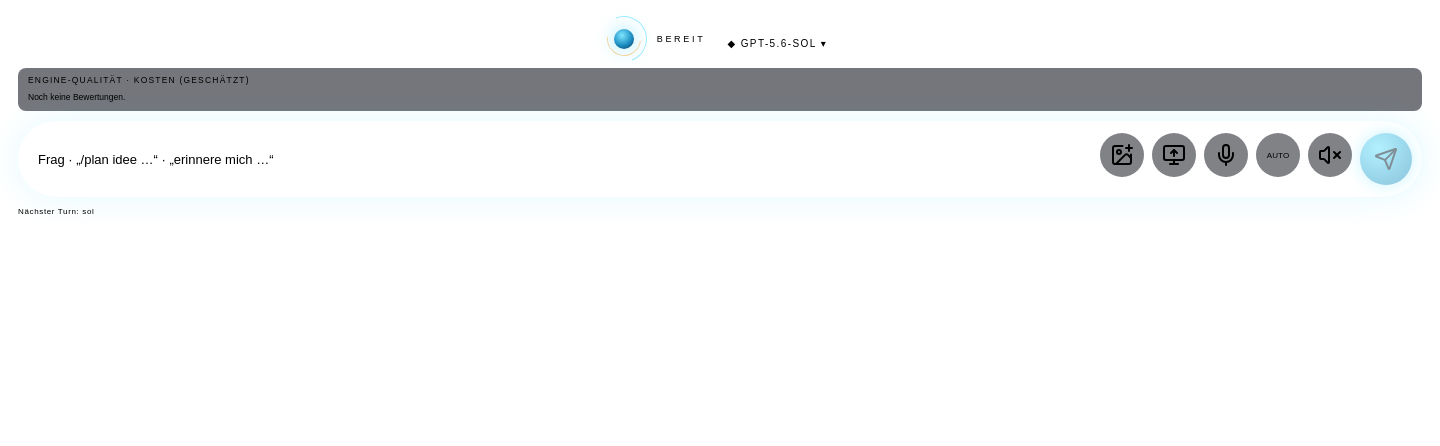
Test: JarvisChat (LIVE-Kontrakt /api/pa/*, Payload-Shapes aus test_pa_chat.py) › Error-Turn → Error-Bubble mit Fehlertext, markiert über status==='error' nach Reload
Step 1. Type "was ist offen?" into the field named "Nachricht an Jarvis" → point(564, 159), box [38,137,1090,181]
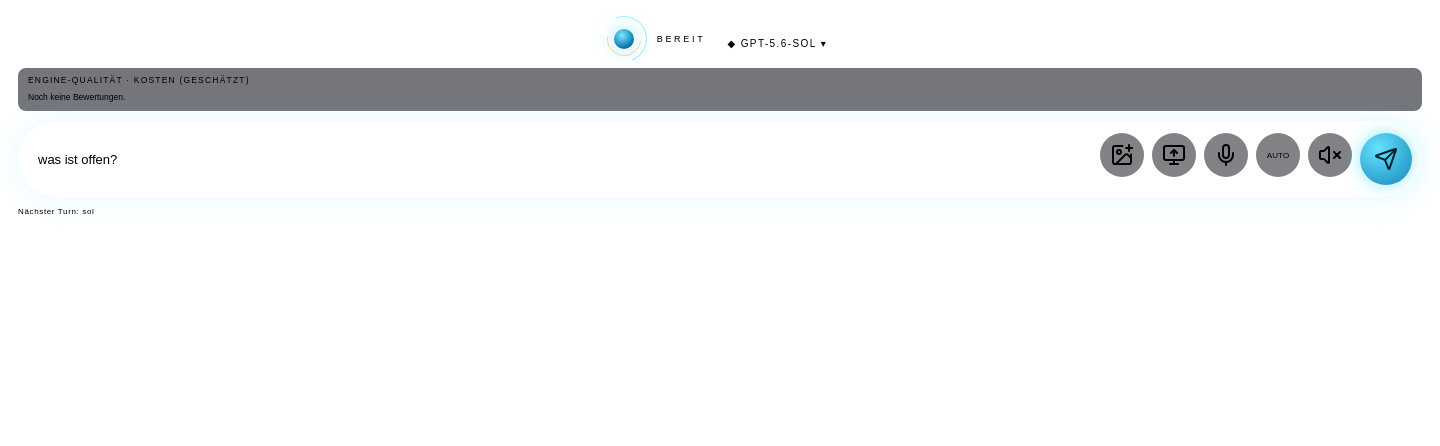
Step 2. Click the button named "Nachricht senden" → point(1386, 159), box [1360,133,1412,185]
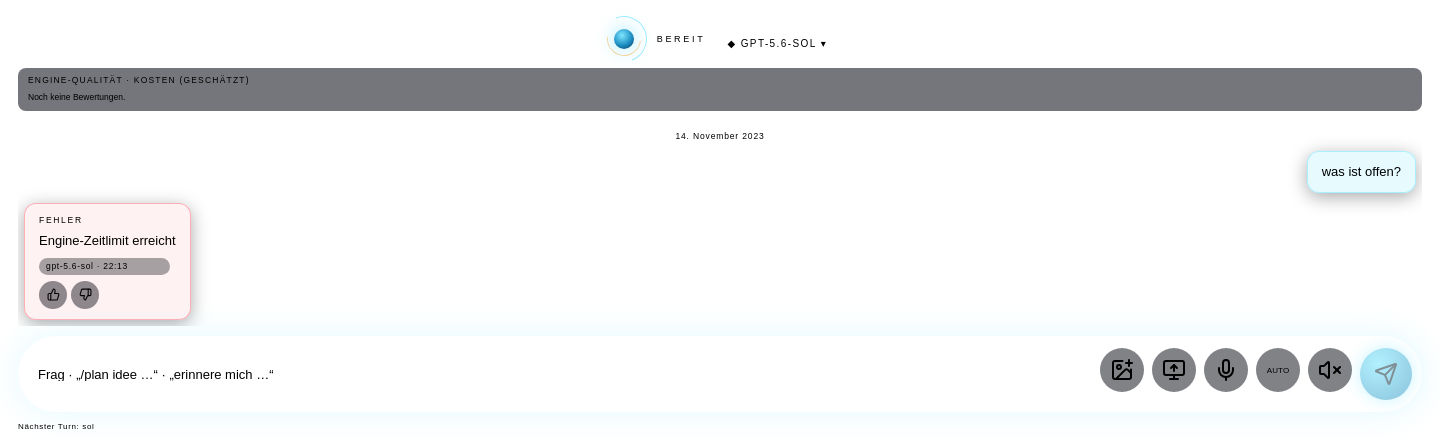
Result: the text "FEHLER" is shown at [39,214,83,224]
Result: the text "Engine-Zeitlimit erreicht" is shown at [39,233,176,248]
